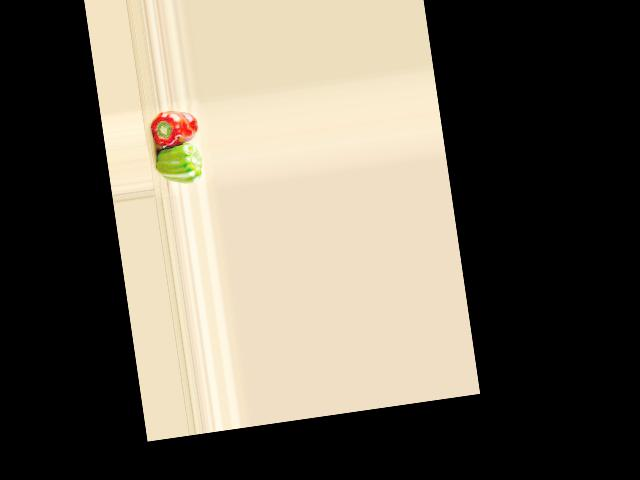bell_pepper: (149, 106, 200, 150)
